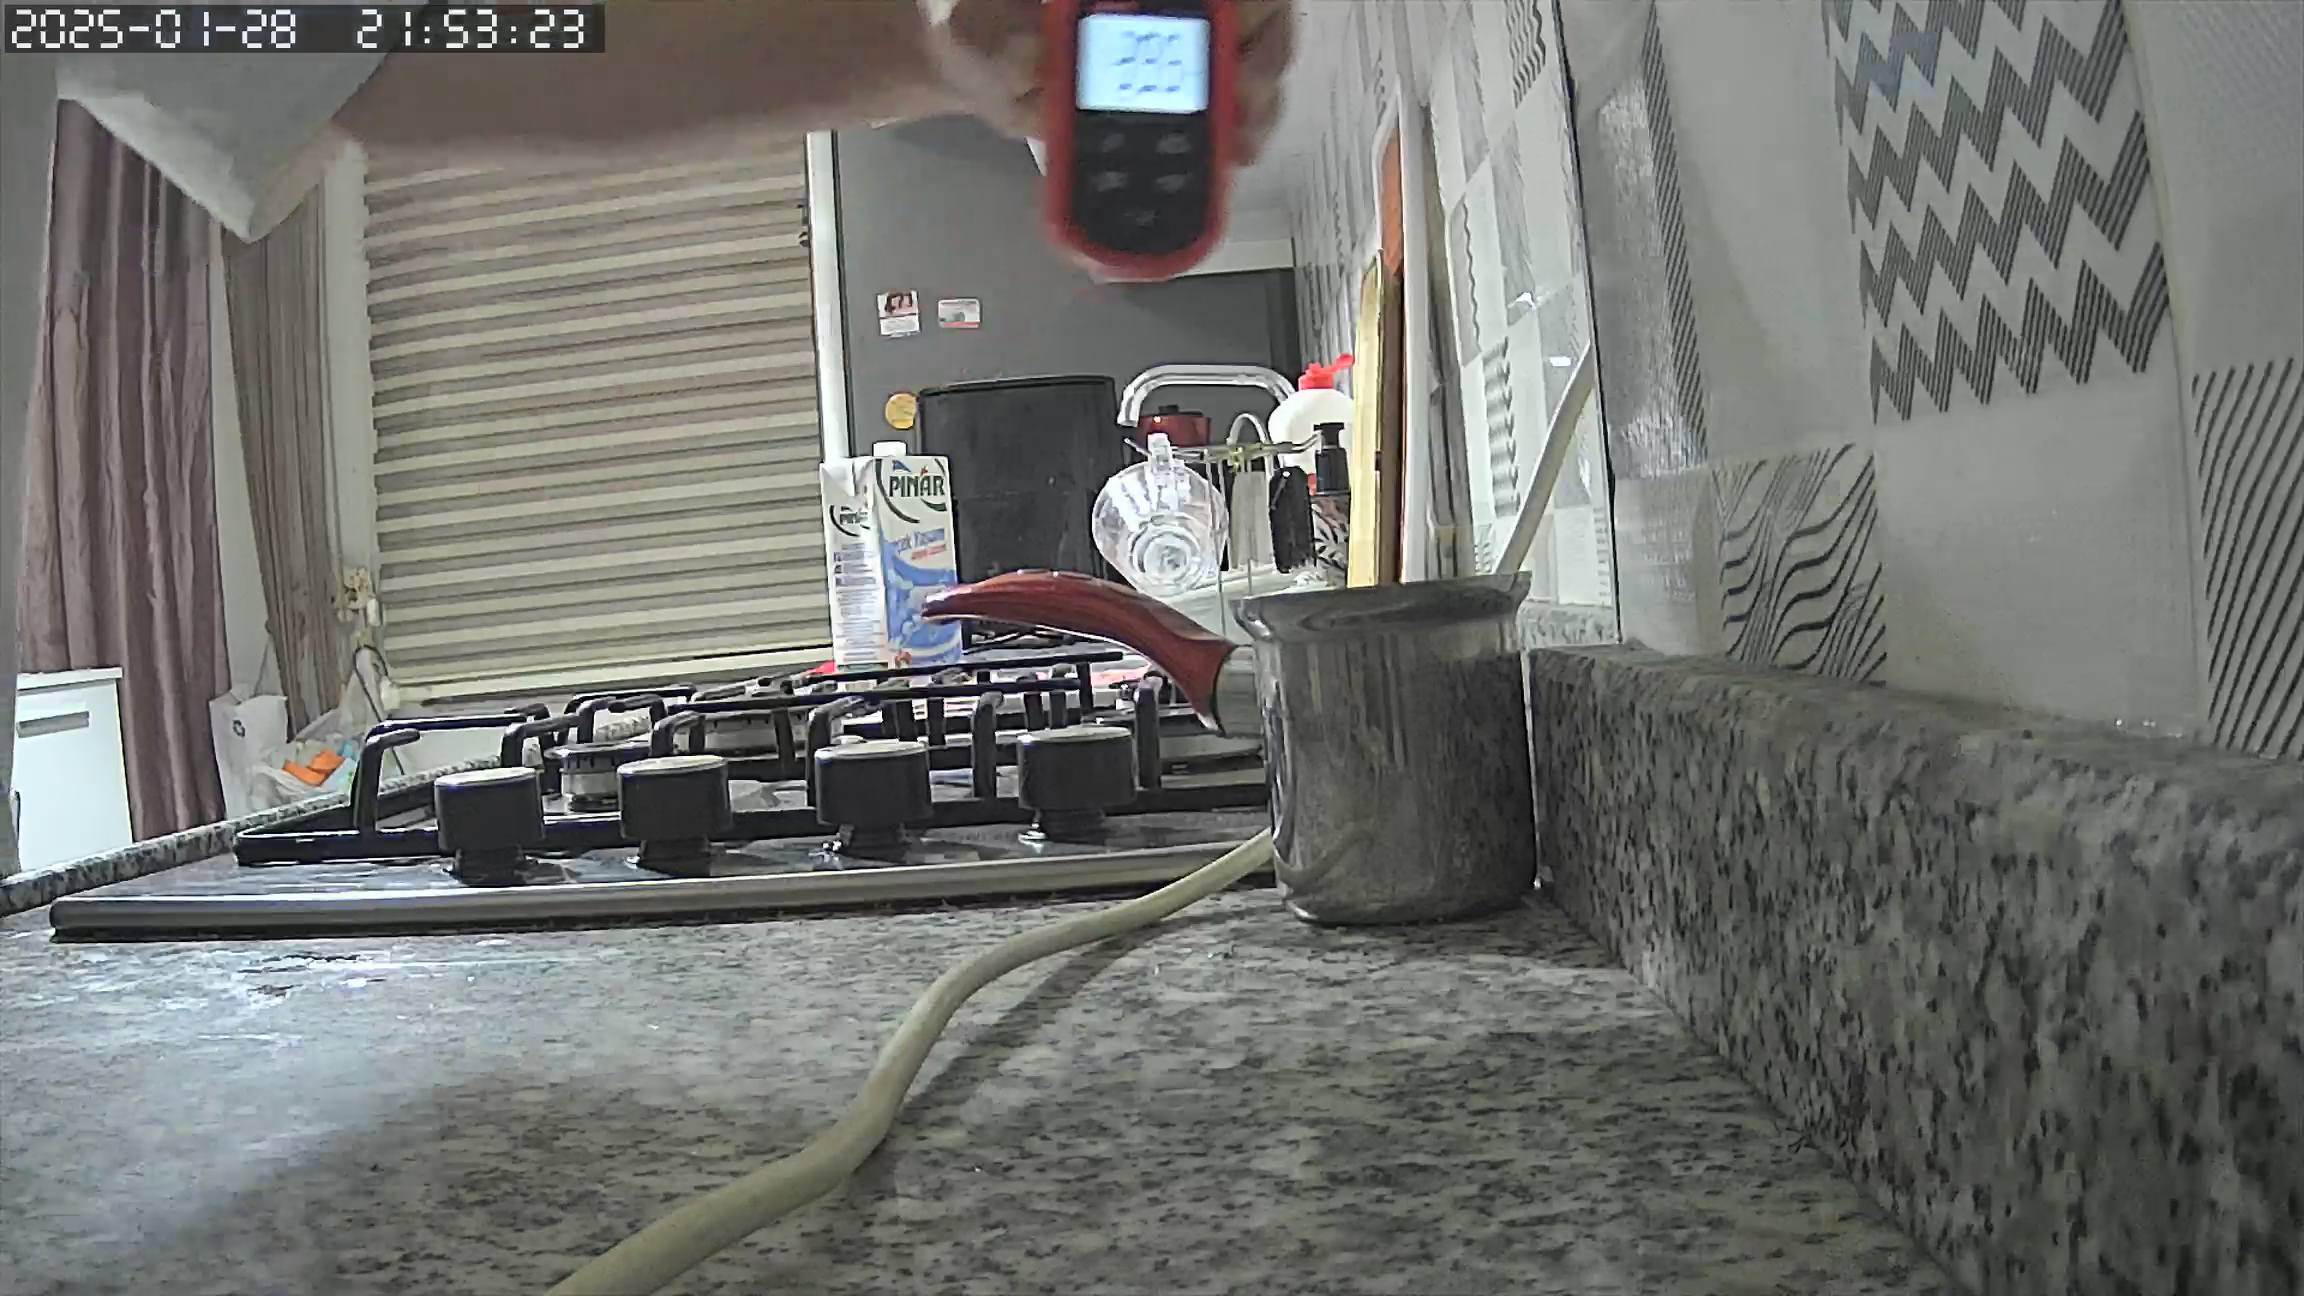screen: (1082, 21, 1203, 109)
